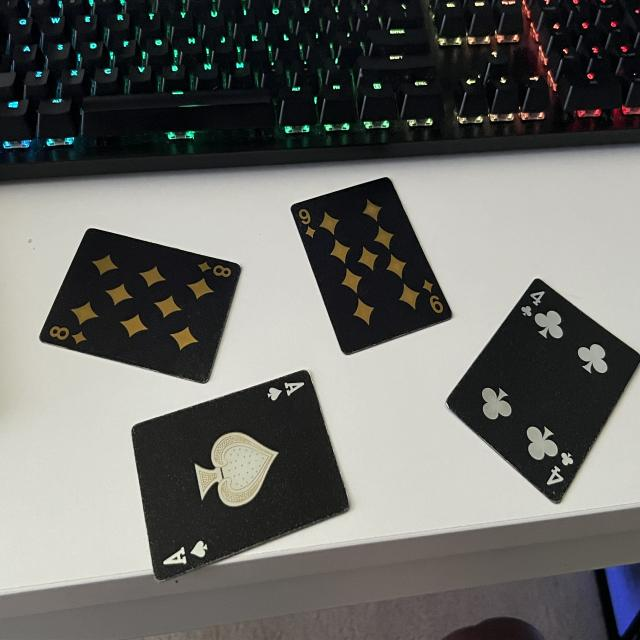4C: (546, 450, 576, 493), (519, 288, 547, 320)
8D: (48, 326, 90, 347), (199, 258, 235, 278)
9D: (421, 279, 446, 316), (296, 207, 322, 241)
AS: (161, 539, 212, 567), (266, 381, 306, 402)
